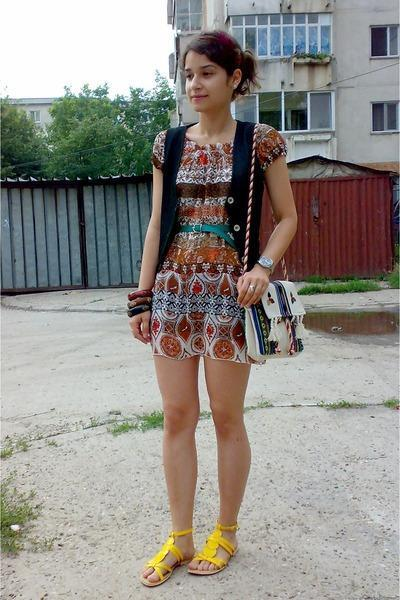bag: (231, 276, 306, 371)
dress: (132, 131, 299, 362)
jacket: (156, 120, 268, 273)
shoe: (143, 529, 228, 587)
